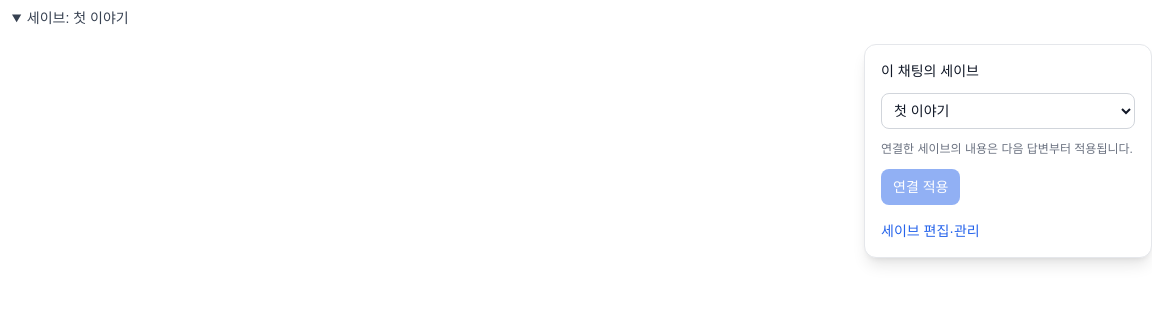
Test: chat save selection › shows a rejected detach without hiding the error
Select "세이브 없이 진행" in the dropdown labelled "이 채팅의 세이브": (1008, 111) [881,93,1135,129]
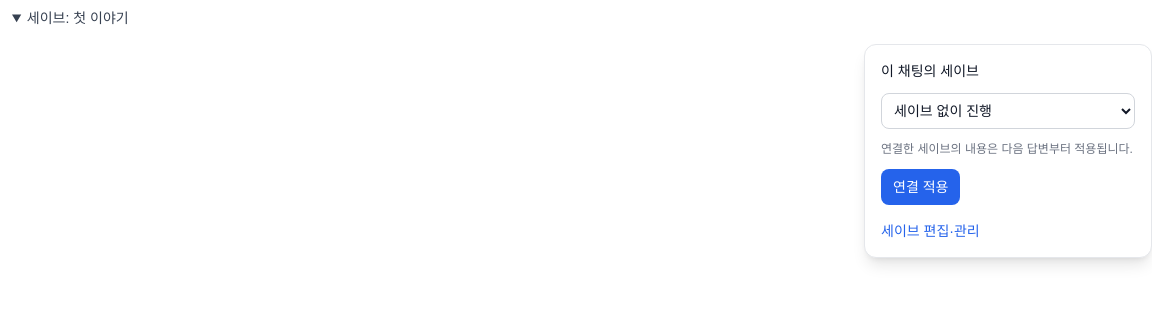
Click the button "연결 적용": (921, 187) [881,169,960,205]
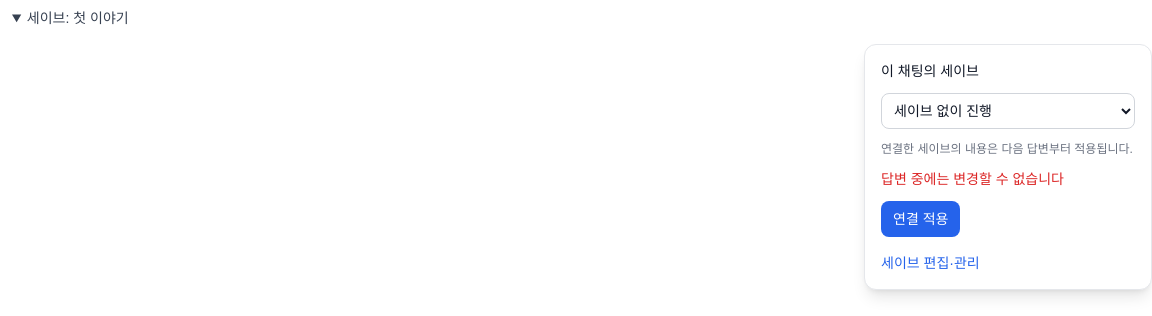
Expected: the message reads "답변 중에는 변경할 수 없습니다", [881,171,1064,187]
